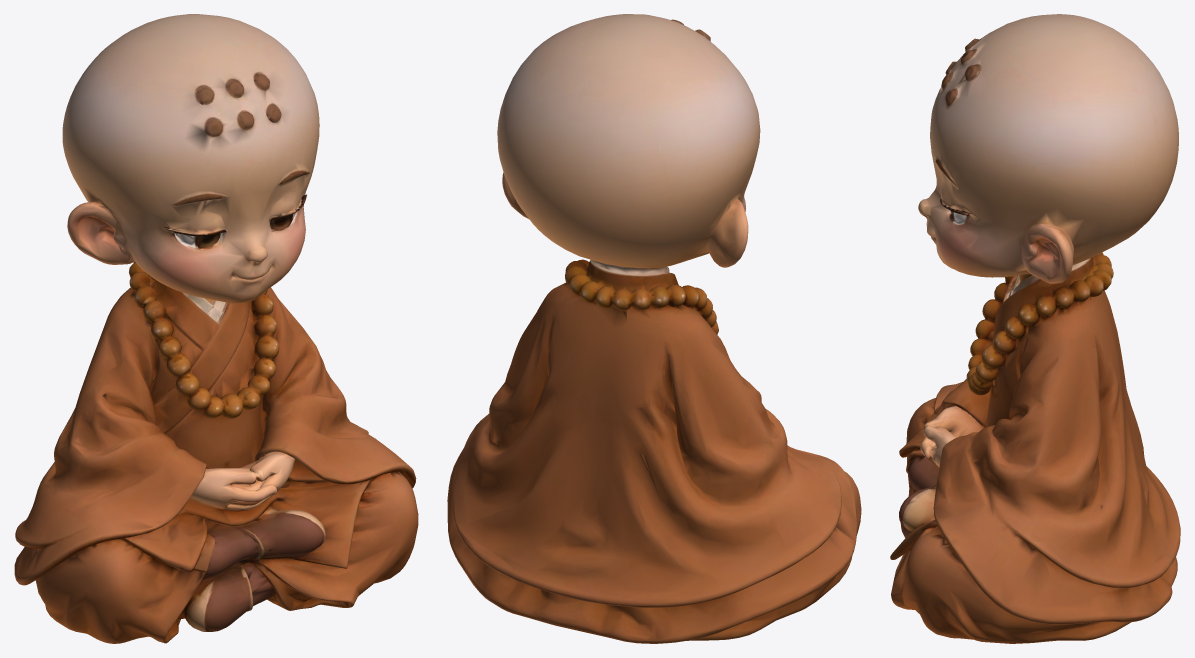
The model's file is monk-sit.glb.
3 renders of one model, left to right at view 1: azimuth 30°, elevation 25°; view 2: azimuth 150°, elevation 25°; view 3: azimuth 270°, elevation 25°, orthographic. The views are drawn at different scales.
Parts seen in each view (by area): view 1: node_0; view 2: node_0; view 3: node_0.
Part boxes in pixels (x1,y1,x2,y2): node_0: (14,14,418,643); node_0: (447,14,861,643); node_0: (890,14,1180,643).
Bounding box in the file's own units: 0.6637 × 0.9043 × 0.4348.
Materials: 1 (1 with a texture image).
